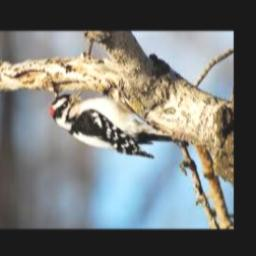Woodpecker: (51, 88, 181, 159)
